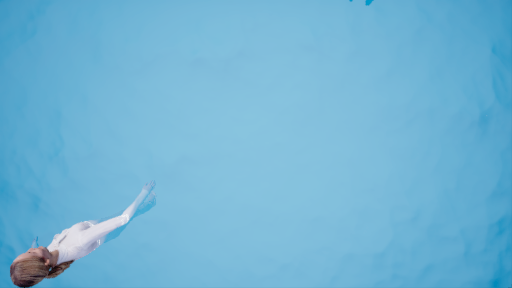person: (4, 178, 163, 282)
